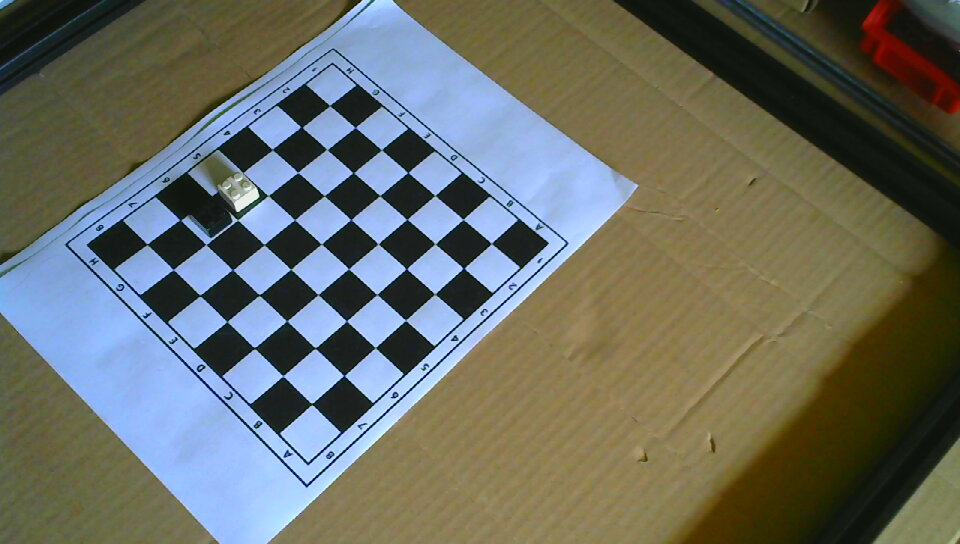bp: (188, 199, 231, 238)
wp: (219, 168, 260, 212)
